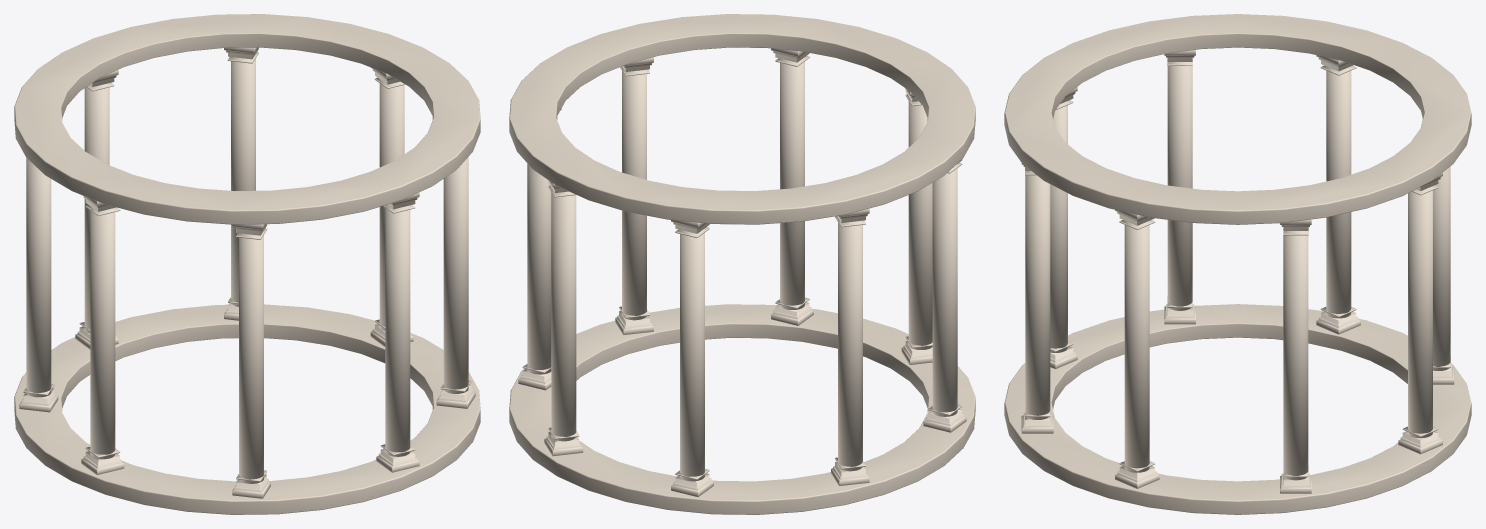
Rendered from colonnes.glb.
The picture shows the model from 3 angles, left to right: view 1: azimuth 30°, elevation 25°; view 2: azimuth 150°, elevation 25°; view 3: azimuth 270°, elevation 25°; orthographic projection.
Parts seen in each view (by area): view 1: colonnes, top, base; view 2: colonnes, top, base; view 3: colonnes, top, base.
Part boxes in pixels (<box>): colonnes: <box>19,47,475,498</box>; top: <box>14,14,480,224</box>; base: <box>14,304,480,514</box>; colonnes: <box>518,48,966,496</box>; top: <box>509,14,975,224</box>; base: <box>509,304,975,514</box>; colonnes: <box>1021,50,1454,493</box>; top: <box>1004,14,1471,224</box>; base: <box>1004,304,1471,514</box>.
Bounding box in the file's own units: 7.42 × 5.34 × 7.42.
